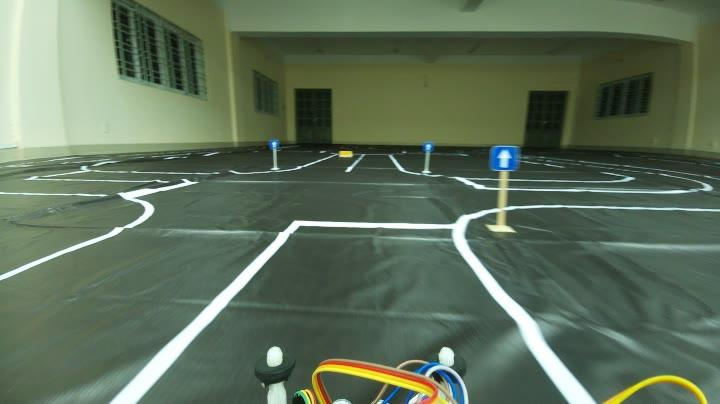onewayroad: (489, 141, 520, 177), (424, 141, 434, 153), (270, 141, 278, 150)
roadblock: (337, 147, 357, 159)
